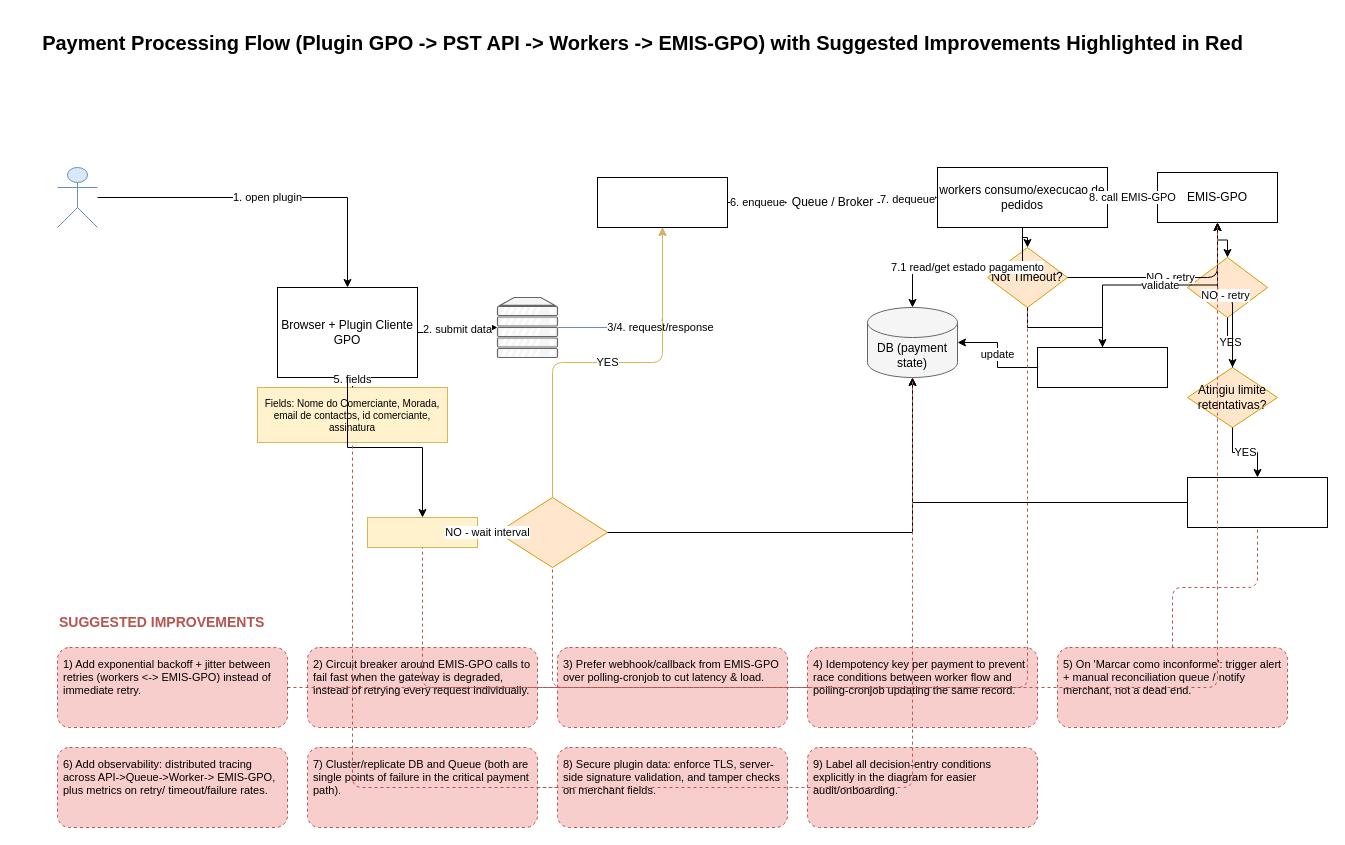
The diagram is 1345 pixels wide and 845 high, and some of its shapes have lost their labels. Each missing label, with the centre of its shape:
API Central PST: the point at 662,202
Existem Pagamentos Pendentes?: the point at 552,532
Local/Gateway Server: the point at 527,327
Marcar pagamento como inconforme: the point at 1257,502
polling-cronjob: the point at 422,532
Timeout / 404?: the point at 1227,287
Utilizador: the point at 77,197
validation worker: the point at 1102,367
